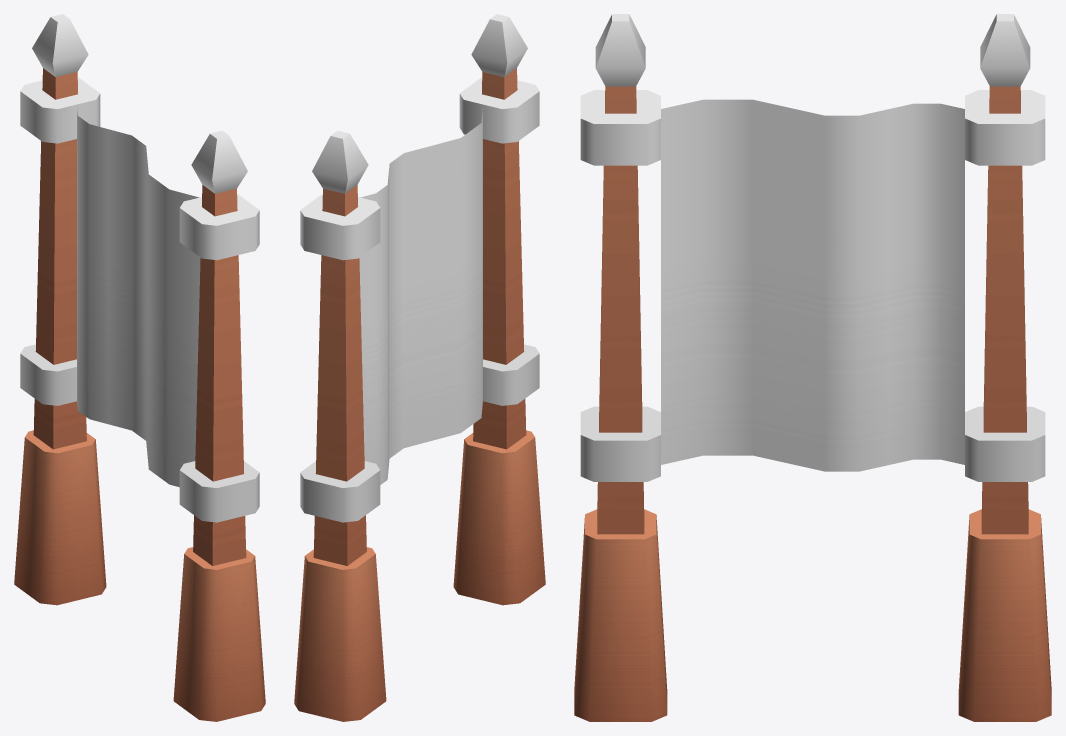
File: flag_wide.glb
The picture shows the model from 3 angles, left to right: view 1: azimuth 30°, elevation 25°; view 2: azimuth 150°, elevation 25°; view 3: azimuth 270°, elevation 25°; orthographic projection. The views are drawn at different scales.
Parts seen in each view (by area): view 1: flag-wide; view 2: flag-wide; view 3: flag-wide.
Part boxes in pixels (<box>): flag-wide: <box>14,14,265,721</box>; flag-wide: <box>294,14,545,721</box>; flag-wide: <box>574,14,1051,721</box>.
Size of the model in its own units: 0.1064 by 0.8656 by 0.5469.
2 materials, 2 textured.
